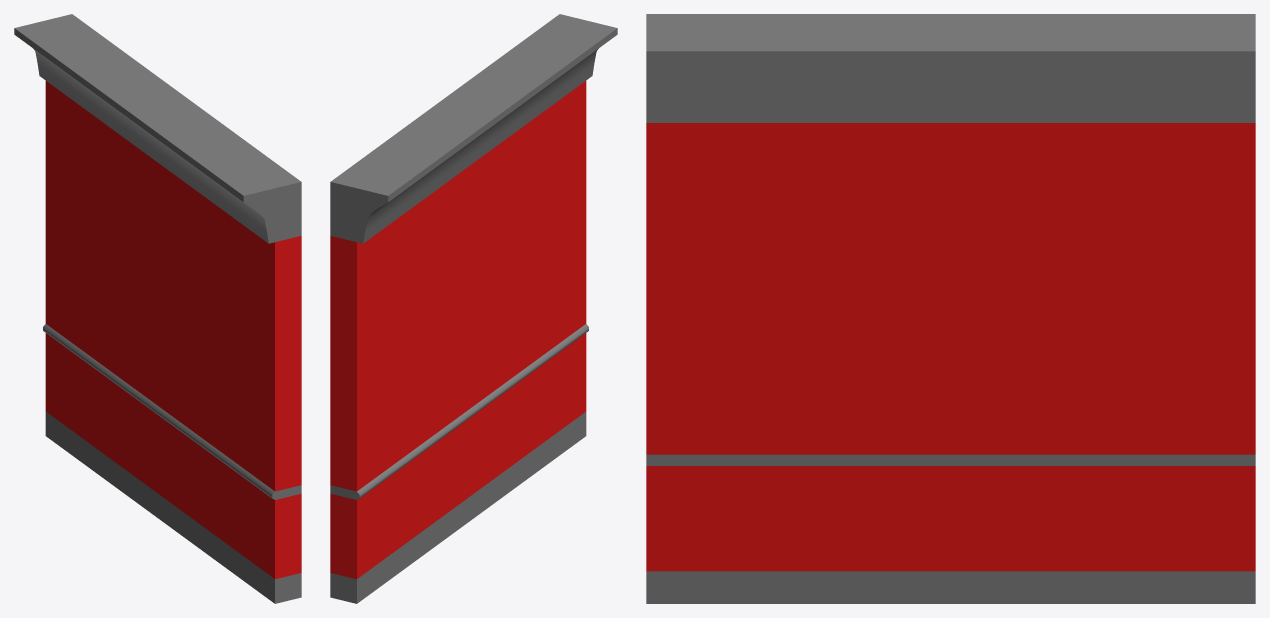
The model's file is Wall2_Top.fbx.
The picture shows the model from 3 angles, left to right: view 1: azimuth 30°, elevation 25°; view 2: azimuth 150°, elevation 25°; view 3: azimuth 270°, elevation 25°; orthographic projection. The views are drawn at different scales.
Parts seen in each view (by area): view 1: Wall003_Top; view 2: Wall003_Top; view 3: Wall003_Top.
Part boxes in pixels (x1,y1,x2,y2): Wall003_Top: [14, 14, 301, 603]; Wall003_Top: [330, 14, 617, 603]; Wall003_Top: [646, 14, 1255, 603].
Size of the model in its own units: 17.19 by 118 by 118.
